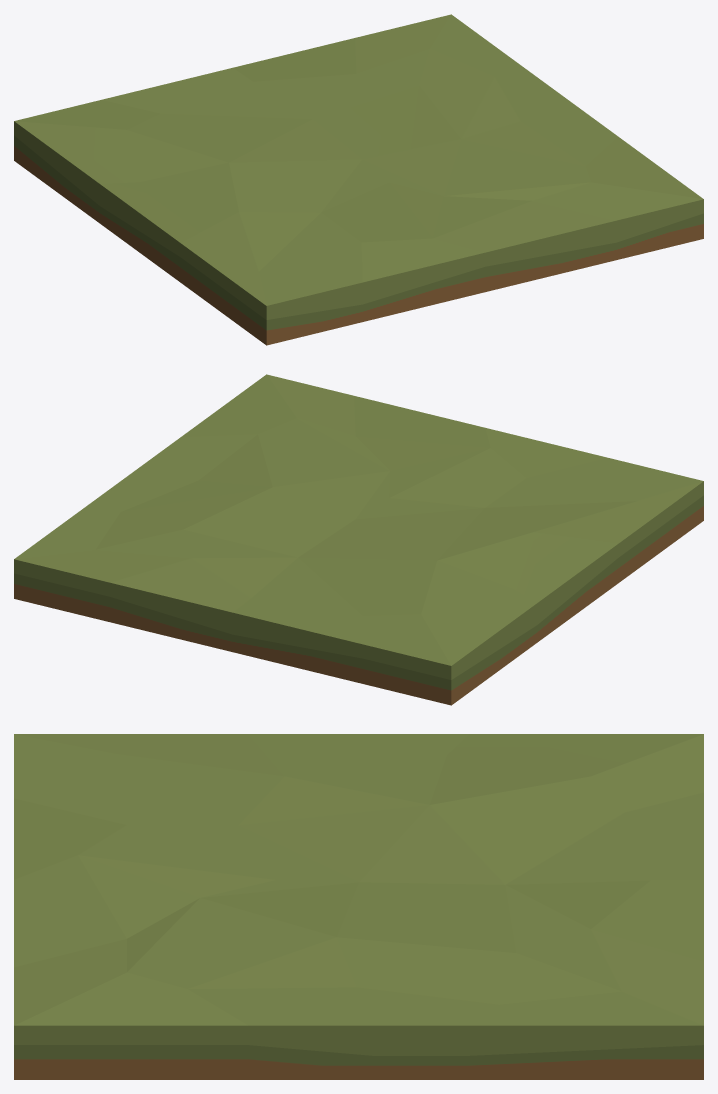
The model's file is floor_alt.glb.
3 renders of one model, top to bottom at view 1: azimuth 30°, elevation 25°; view 2: azimuth 150°, elevation 25°; view 3: azimuth 270°, elevation 25°, orthographic. The views are drawn at different scales.
Parts seen in each view (by area): view 1: SM_Tile_Cube_Flat_02; view 2: SM_Tile_Cube_Flat_02; view 3: SM_Tile_Cube_Flat_02.
Part boxes in pixels (x1,y1,x2,y2): SM_Tile_Cube_Flat_02: (14,14,703,345); SM_Tile_Cube_Flat_02: (14,374,703,705); SM_Tile_Cube_Flat_02: (14,734,703,1079).
Size of the model in its own units: 5 by 0.4764 by 5.
Materials: 1 (1 with a texture image).
